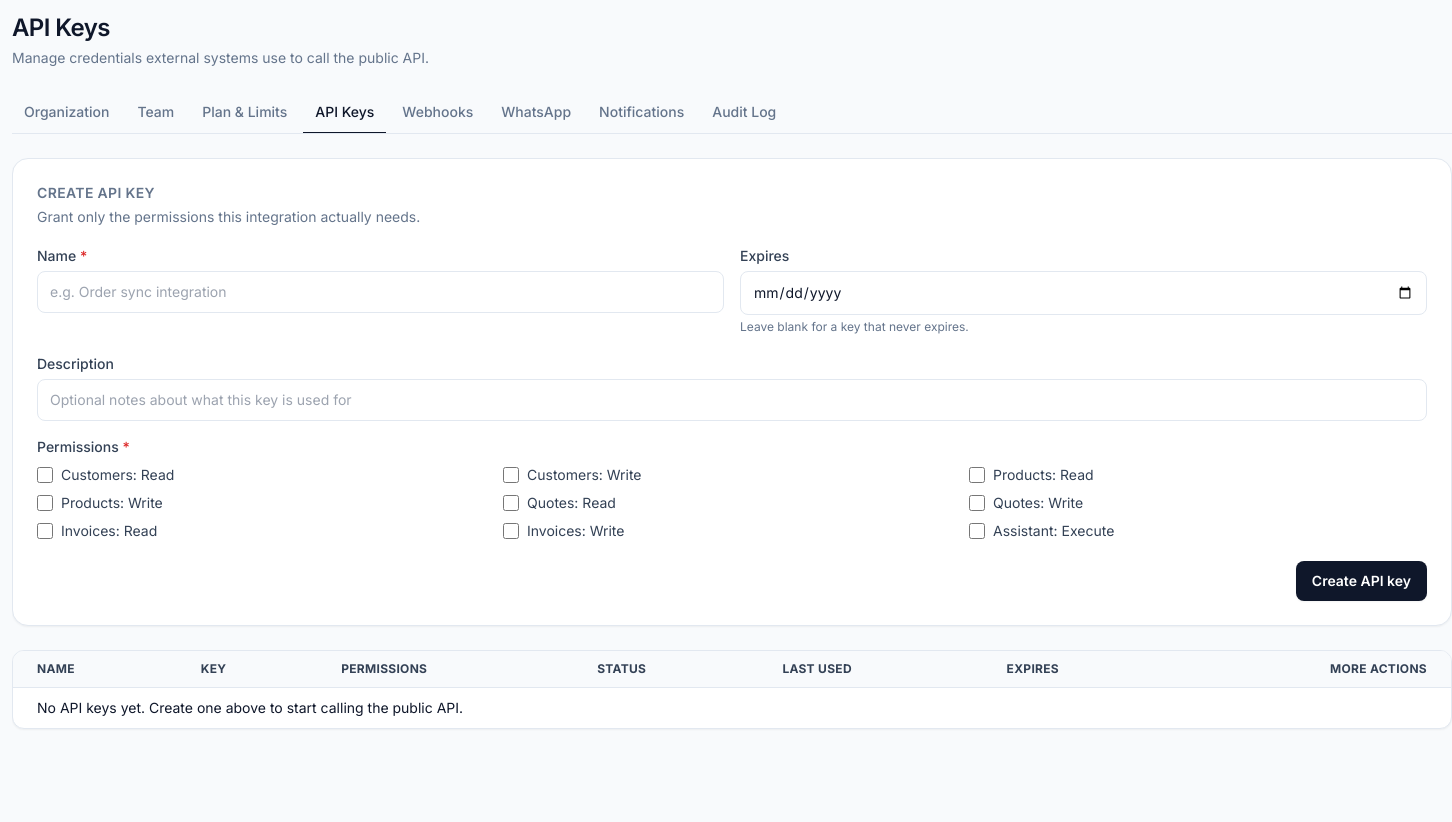
Test case: ApiKeysPage › requires a name and at least one permission before submitting
The image size is (1452, 822).
Click the button "Create API key": (1361, 581) x1=1296 y1=561 x2=1427 y2=601
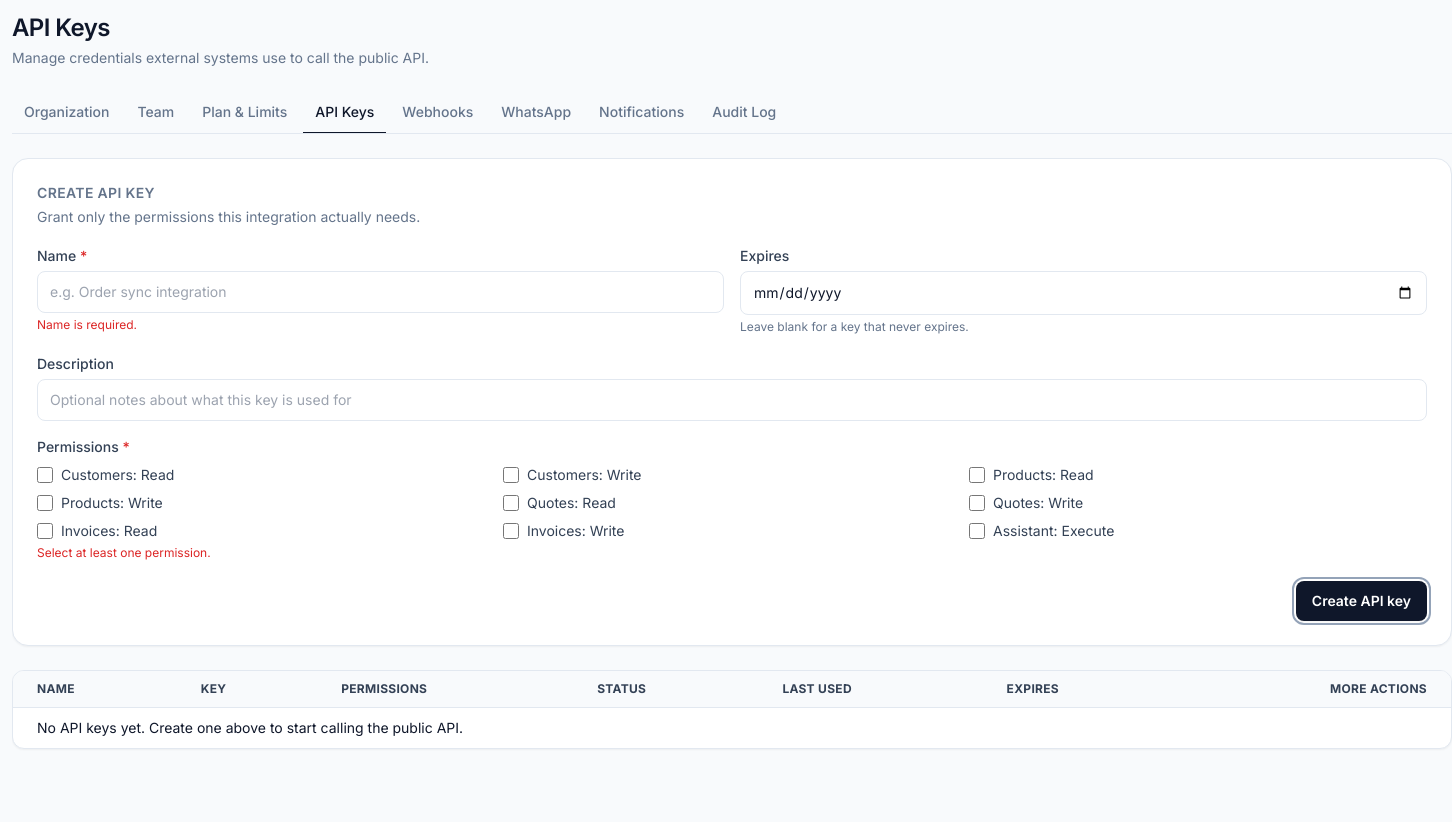
Now the text "Select at least one permission." is shown, box x1=37 y1=545 x2=211 y2=560
